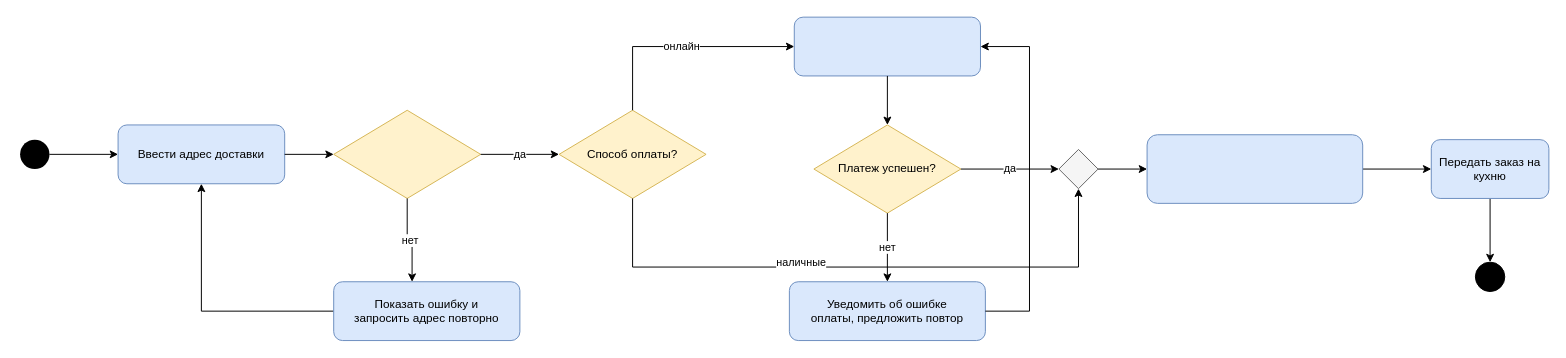
Some shapes in this 1566 by 358 pixel diagram are drawn without their labels. Here are the shapes that lost their labels. From the top down, the centre of each, then its label:
At point (886, 46): "Провести оплату через платежный шлюз".
At point (407, 153): "Адрес корректен и в зоне доставки?".
At point (1254, 168): "Отправить уведомление о новом заказе администратору".
